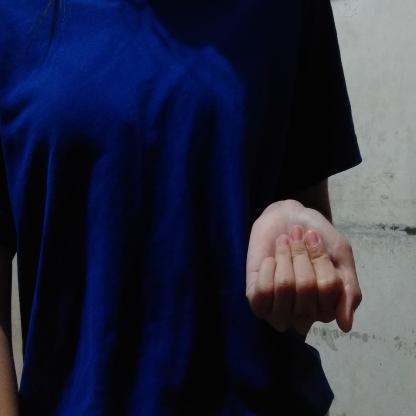where: (225, 186, 380, 347)
